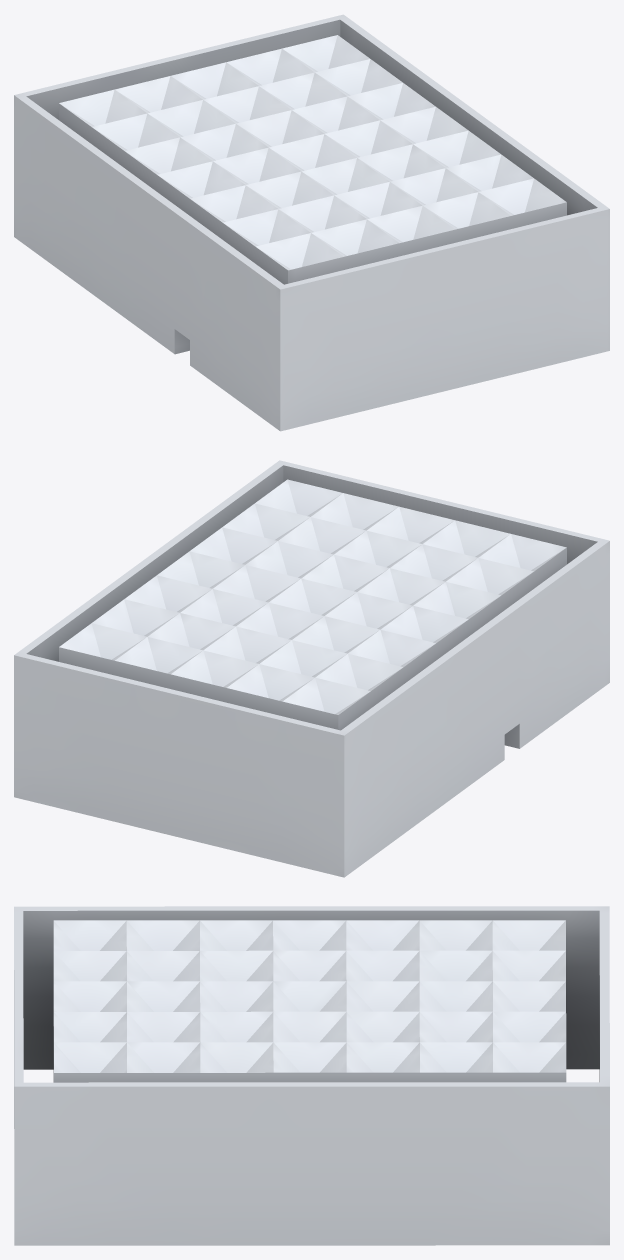
The picture shows the model from 3 angles, top to bottom: view 1: azimuth 30°, elevation 25°; view 2: azimuth 150°, elevation 25°; view 3: azimuth 270°, elevation 25°; orthographic projection. The views are drawn at different scales.
Parts seen in each view (by area): view 1: 70030076682030667_baked; view 2: 70030076682030667_baked; view 3: 70030076682030667_baked.
Boxes of the visible parts, x1,y1,x2,y2 form: 70030076682030667_baked: (14,14,609,431); 70030076682030667_baked: (14,460,609,877); 70030076682030667_baked: (14,906,609,1245).
Size of the model in its own units: 30.05 by 12.33 by 41.93.
1 material, 1 textured.
